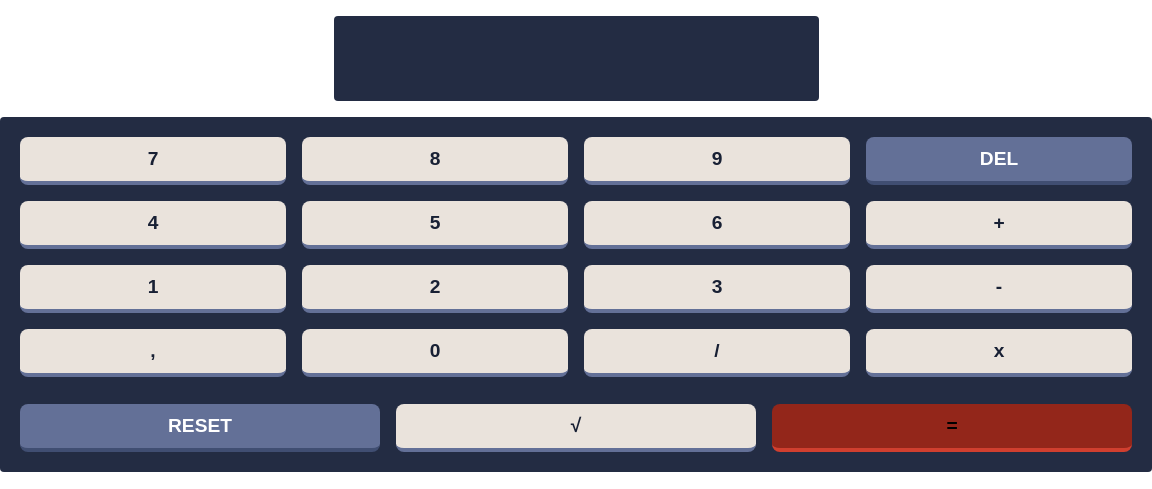
Test: <Calculator/> › should be able to clean result input when press RESET
Click the button with test id "2" at (435, 289), box [302, 265, 568, 313]
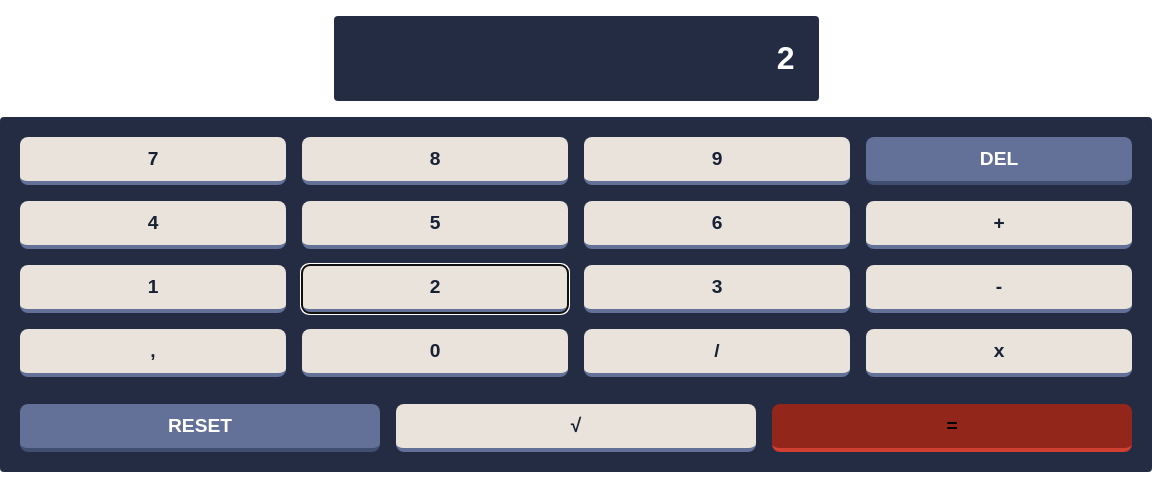
Click the button with test id "add-button" at (999, 225), box [866, 201, 1132, 249]
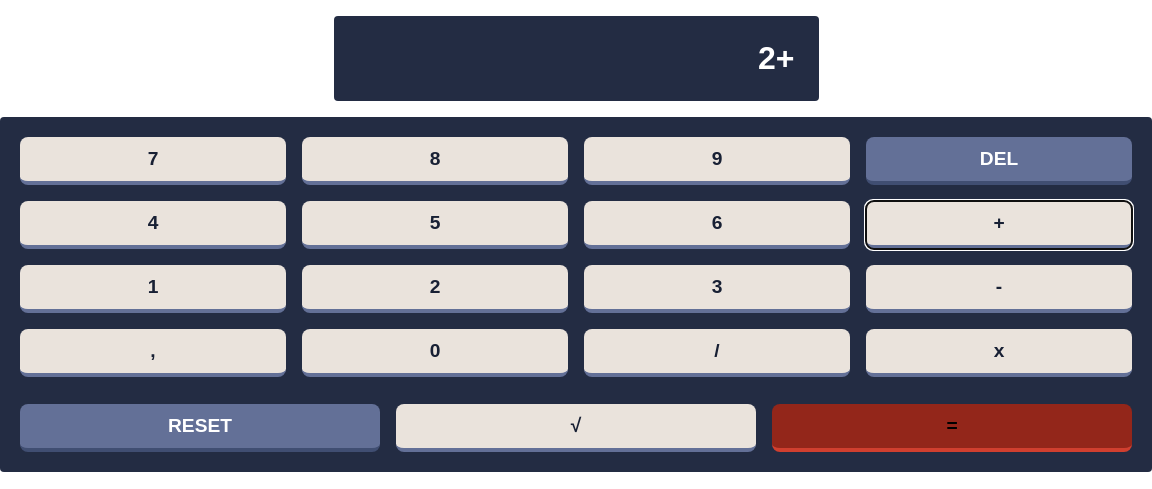
Click the button with test id "3" at (717, 289), box [584, 265, 850, 313]
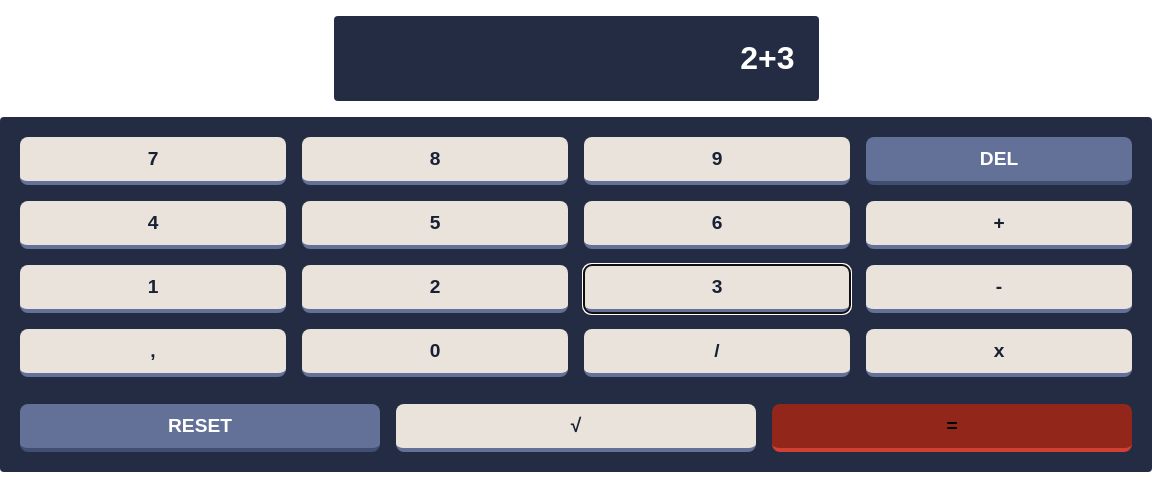
Click the button with test id "result-button" at (952, 428), box [772, 404, 1132, 452]
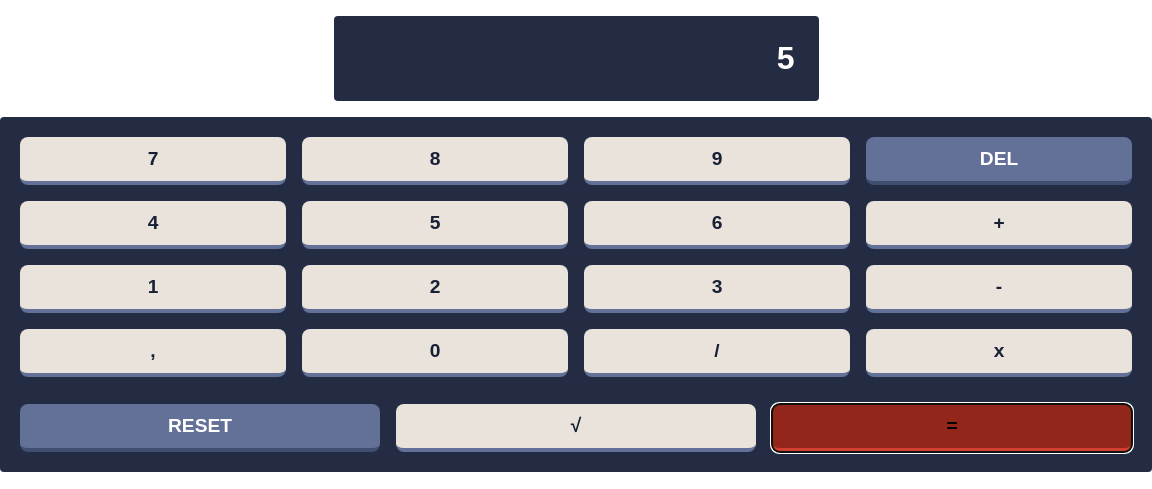
Click the button with test id "reset-button" at (200, 428), box [20, 404, 380, 452]
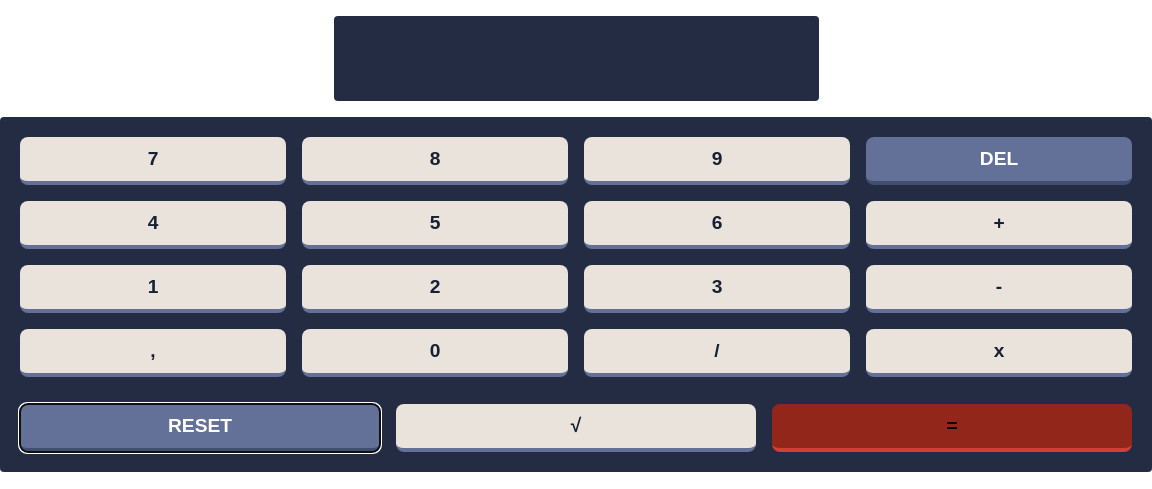
Expected: the field with test id "input" is empty, [334, 16, 818, 101]
